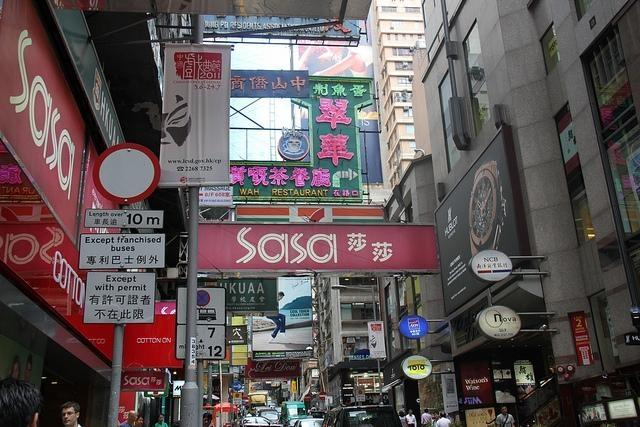bus: (314, 354, 399, 424)
car: (332, 404, 404, 427), (243, 417, 323, 427), (280, 402, 308, 424), (256, 406, 282, 426), (307, 410, 328, 420), (283, 419, 300, 427)
